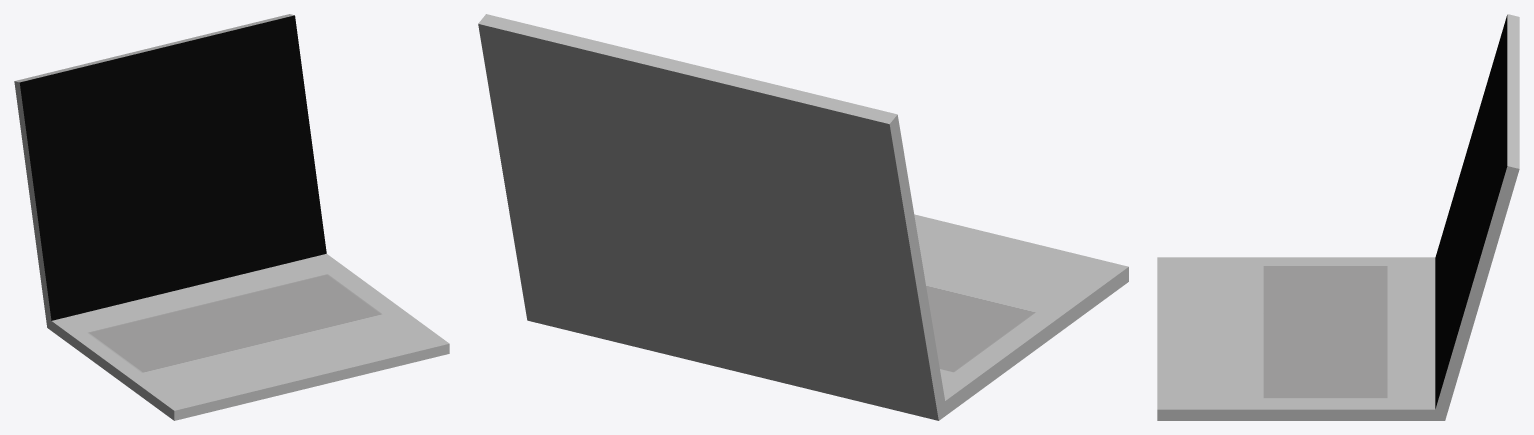
The model's file is laptop.fbx.
3 views of the same model, side by side, from view 1: azimuth 30°, elevation 25°; view 2: azimuth 150°, elevation 25°; view 3: azimuth 270°, elevation 25° (orthographic). The views are drawn at different scales.
Visible parts, largest first — view 1: pCube3; view 2: pCube3; view 3: pCube3.
Boxes of the visible parts, box(x1,y1,x2,y2) form: pCube3: box(14, 14, 449, 420); pCube3: box(478, 14, 1128, 420); pCube3: box(1157, 14, 1519, 420).
Bounding box in the file's own units: 6.25 × 4.89 × 6.29.
1 material, 1 textured.
